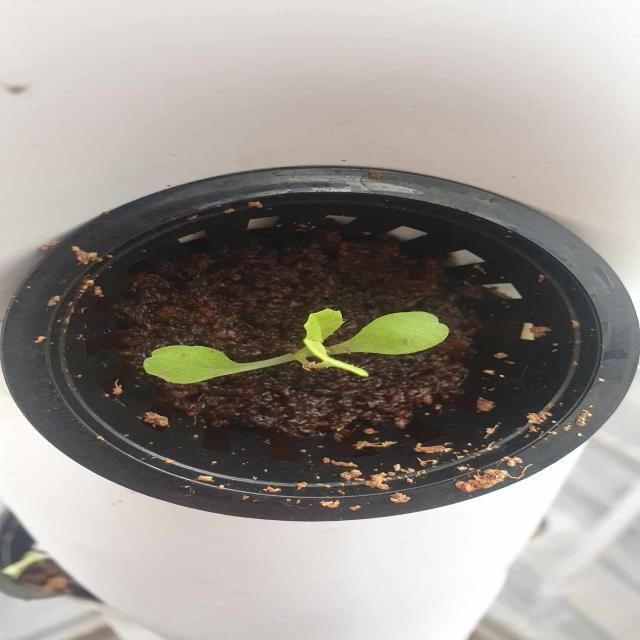Lettuce-Not-Ready-to-Harvest: (134, 303, 451, 404)
